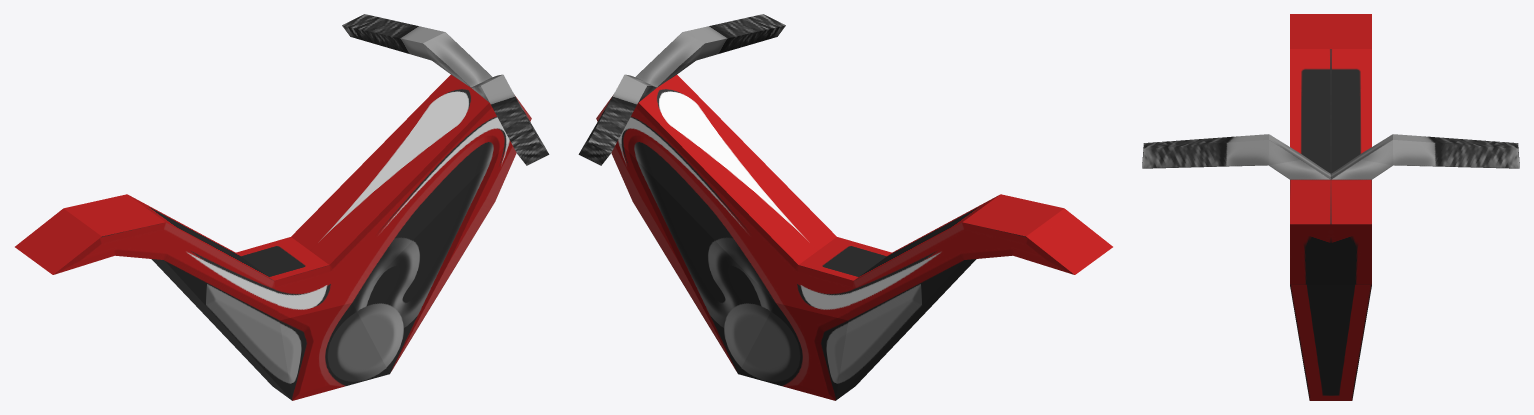
Rendered from bikeBody.fbx.
3 views of the same model, side by side, from view 1: azimuth 30°, elevation 25°; view 2: azimuth 150°, elevation 25°; view 3: azimuth 270°, elevation 25° (orthographic). The views are drawn at different scales.
Visible parts, largest first — view 1: bikeBody; view 2: bikeBody; view 3: bikeBody.
Boxes of the visible parts, box(x1,y1,x2,y2) form: bikeBody: box(15, 14, 549, 400); bikeBody: box(578, 14, 1112, 400); bikeBody: box(1142, 14, 1519, 400).
Size of the model in its own units: 496 by 290 by 316.
